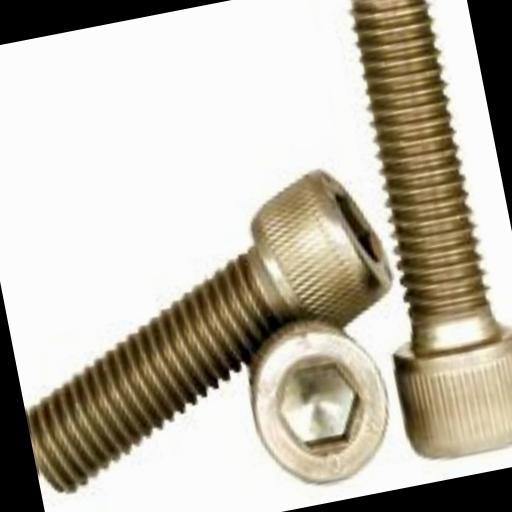Hex-Allen: (233, 311, 402, 499)
